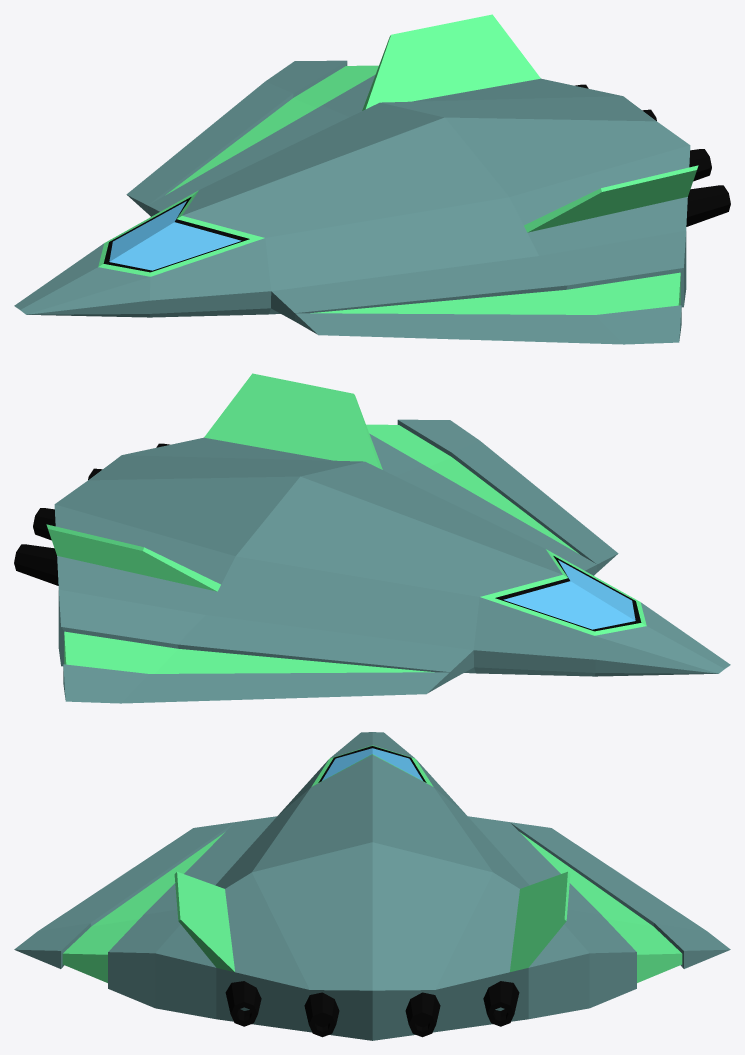
The model's file is scout1.fbx.
3 views of the same model, one above another, from view 1: azimuth 30°, elevation 25°; view 2: azimuth 150°, elevation 25°; view 3: azimuth 270°, elevation 25° (orthographic). The views are drawn at different scales.
Parts seen in each view (by area): view 1: Scout; view 2: Scout; view 3: Scout.
Part boxes in pixels (x1,y1,x2,y2): Scout: [14, 14, 730, 344]; Scout: [14, 373, 730, 703]; Scout: [14, 732, 730, 1040].
Size of the model in its own units: 542 by 117 by 549.
